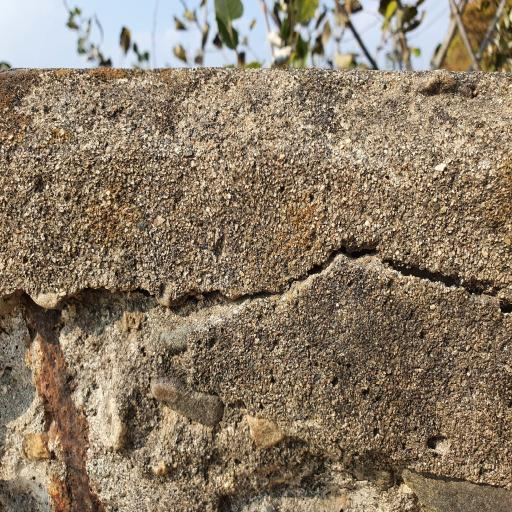exposed_rebar: (22, 299, 103, 512)
spalling: (0, 293, 423, 512)
